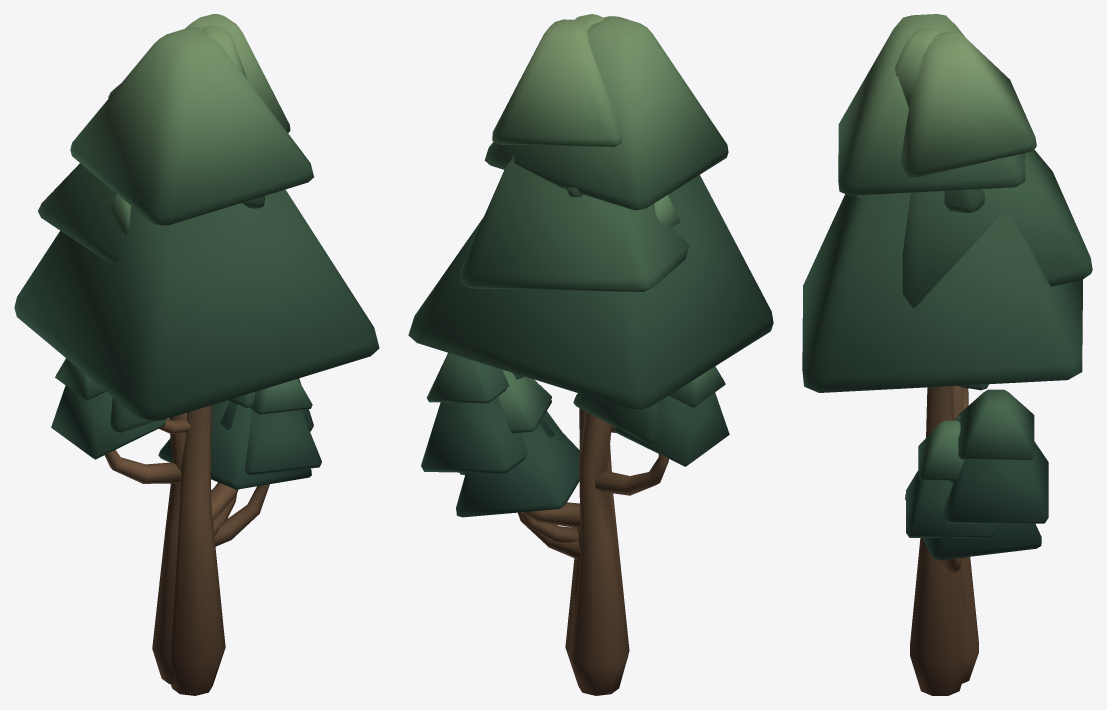
The model's file is tree_conifer.glb.
3 views of the same model, side by side, from view 1: azimuth 30°, elevation 25°; view 2: azimuth 150°, elevation 25°; view 3: azimuth 270°, elevation 25° (orthographic).
Visible parts, largest first — view 1: v2, v1, v0; view 2: v2, v1, v0; view 3: v2, v1, v0.
Boxes of the visible parts, x1,y1,x2,y2 form: v2: (14, 27, 379, 695); v1: (38, 14, 321, 684); v0: (110, 26, 311, 535); v2: (408, 16, 773, 695); v1: (460, 19, 729, 693); v0: (456, 14, 680, 542); v2: (802, 14, 1082, 695); v1: (900, 31, 1092, 683); v0: (858, 28, 1041, 560).
Size of what is drawn, in the model's own units: 3.5 by 9.09 by 3.57.
